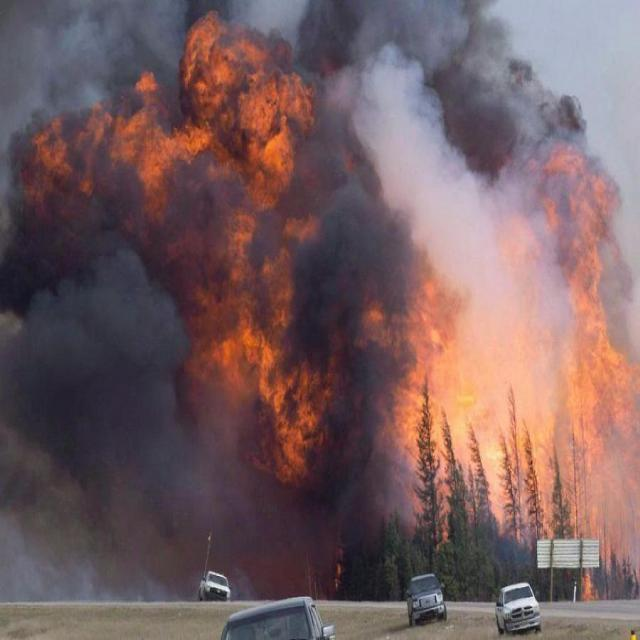Fire: (25, 30, 327, 482), (370, 158, 624, 578)
